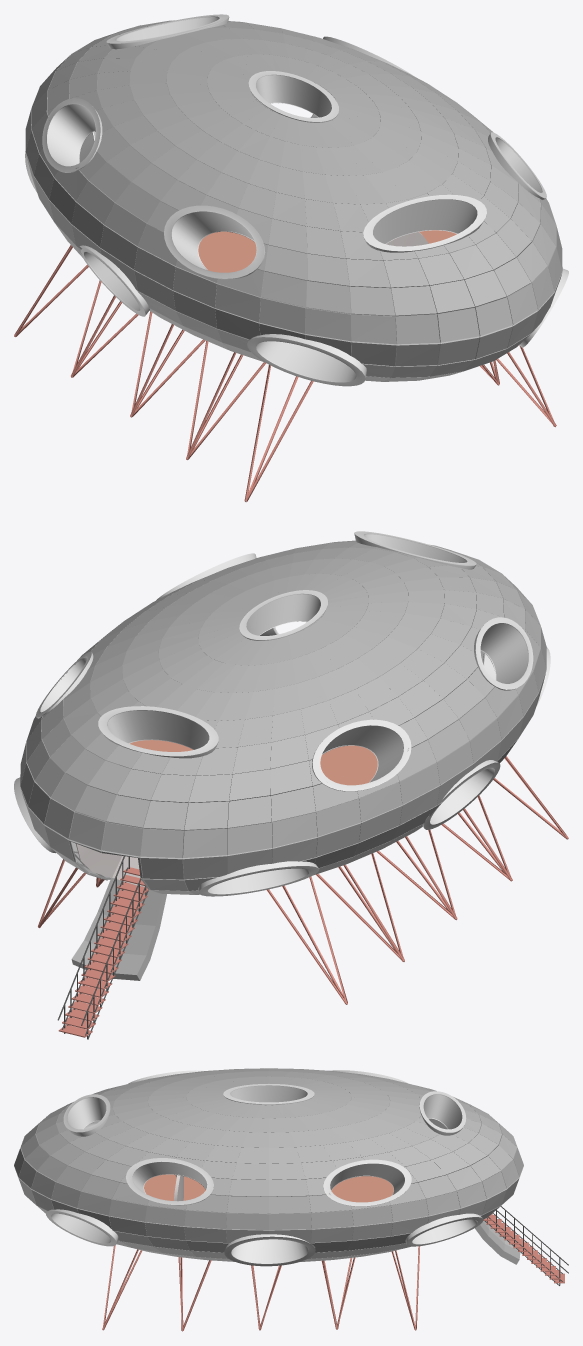
The model's file is spacestation.gltf.
3 renders of one model, top to bottom at view 1: azimuth 30°, elevation 25°; view 2: azimuth 150°, elevation 25°; view 3: azimuth 270°, elevation 25°, orthographic. The views are drawn at different scales.
Parts seen in each view (by area): view 1: buiten afwerking, rand (×8), Plane, vloer; view 2: buiten afwerking, rand (×8), Plane, buiten, vloer, vluchttrap.1; view 3: buiten afwerking, rand (×8), vloer, Plane, buiten.
Part boxes in pixels (x1=…): buiten afwerking: x1=25, y1=20, x2=562, y2=381; rand (×8): x1=42, y1=14, x2=546, y2=386; Plane: x1=14, y1=245, x2=556, y2=502; vloer: x1=198, y1=230, x2=456, y2=272; buiten afwerking: x1=20, y1=540, x2=546, y2=894; rand (×8): x1=35, y1=531, x2=533, y2=896; Plane: x1=38, y1=756, x2=568, y2=1004; buiten: x1=71, y1=877, x2=166, y2=980; vloer: x1=130, y1=740, x2=377, y2=785; vluchttrap.1: x1=76, y1=843, x2=144, y2=886; buiten afwerking: x1=14, y1=1068, x2=523, y2=1261; rand (×8): x1=46, y1=1084, x2=483, y2=1266; vloer: x1=144, y1=1174, x2=393, y2=1202; Plane: x1=102, y1=1245, x2=420, y2=1331; buiten: x1=475, y1=1221, x2=520, y2=1264.
Bounding box in the file's own units: 1445 × 974 × 2575.
